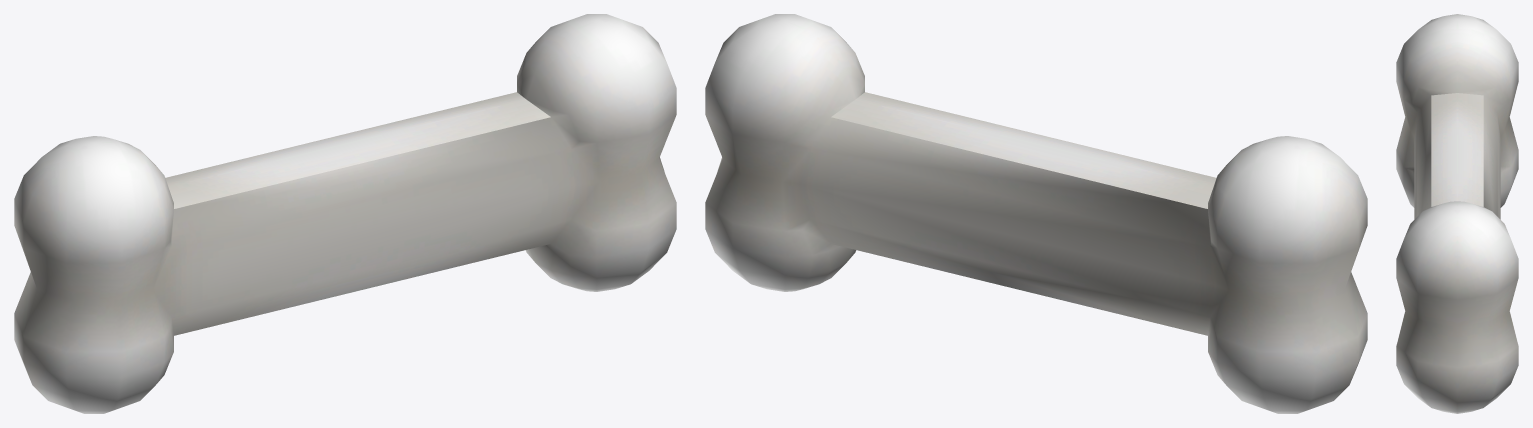
File: bone.fbx
The picture shows the model from 3 angles, left to right: view 1: azimuth 30°, elevation 25°; view 2: azimuth 150°, elevation 25°; view 3: azimuth 270°, elevation 25°; orthographic projection. The views are drawn at different scales.
Parts seen in each view (by area): view 1: bone; view 2: bone; view 3: bone.
Boxes of the visible parts, left/top/right/bottom form: bone: left=14, top=14, right=676, bottom=413; bone: left=705, top=14, right=1367, bottom=413; bone: left=1396, top=14, right=1518, bottom=413.
Size of the model in its own units: 0.4552 by 0.1784 by 0.098.
Materials: 1 (1 with a texture image).
